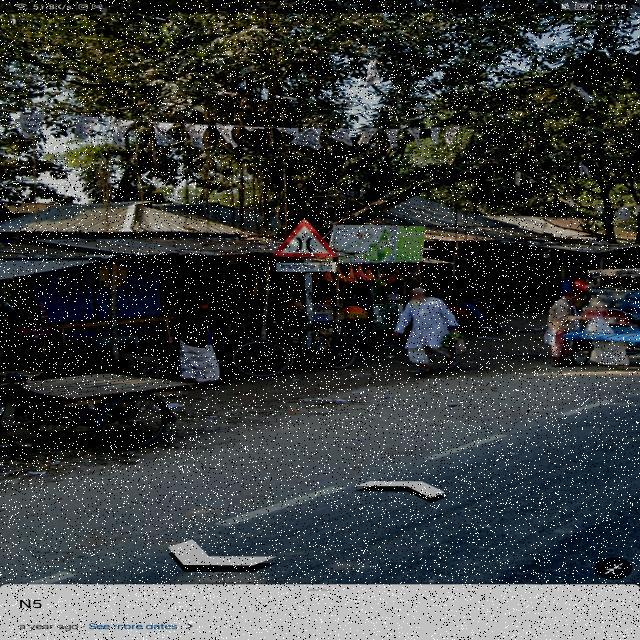Ahead-of-the-bridge: (269, 216, 344, 285)
